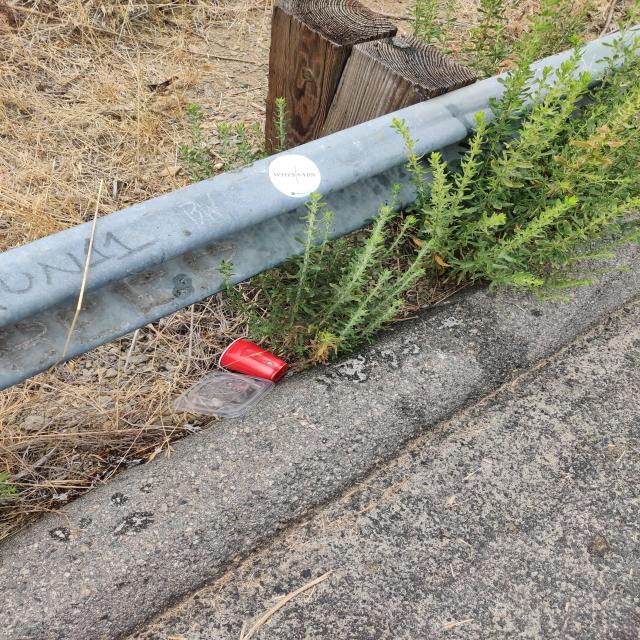litter: (173, 370, 275, 417), (218, 337, 288, 382)
